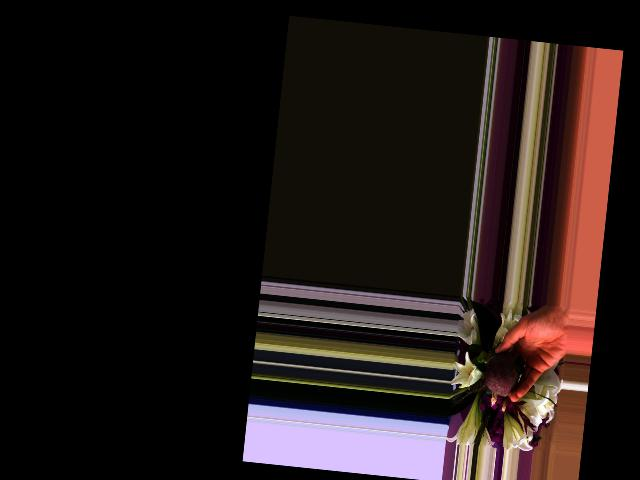beet: (451, 347, 526, 415)
